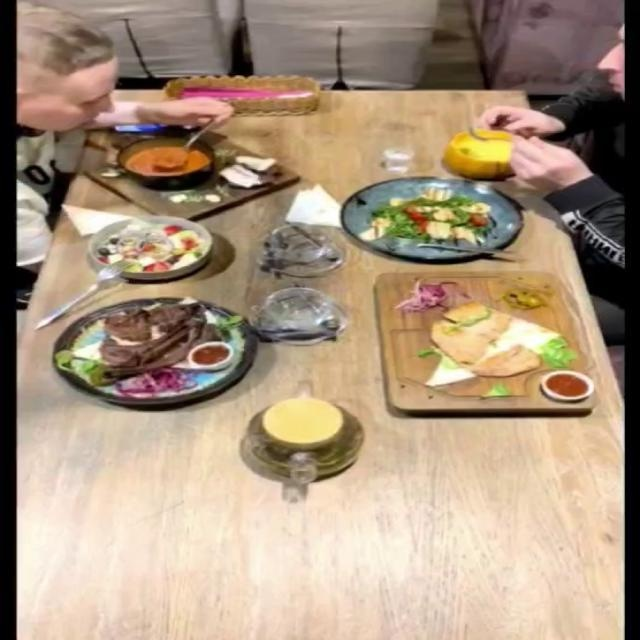meat: (353, 262, 598, 420), (51, 295, 261, 405)
salad: (344, 176, 527, 260), (86, 213, 214, 280)
soup: (79, 127, 301, 221), (443, 129, 518, 178)
tea: (244, 397, 367, 482)
